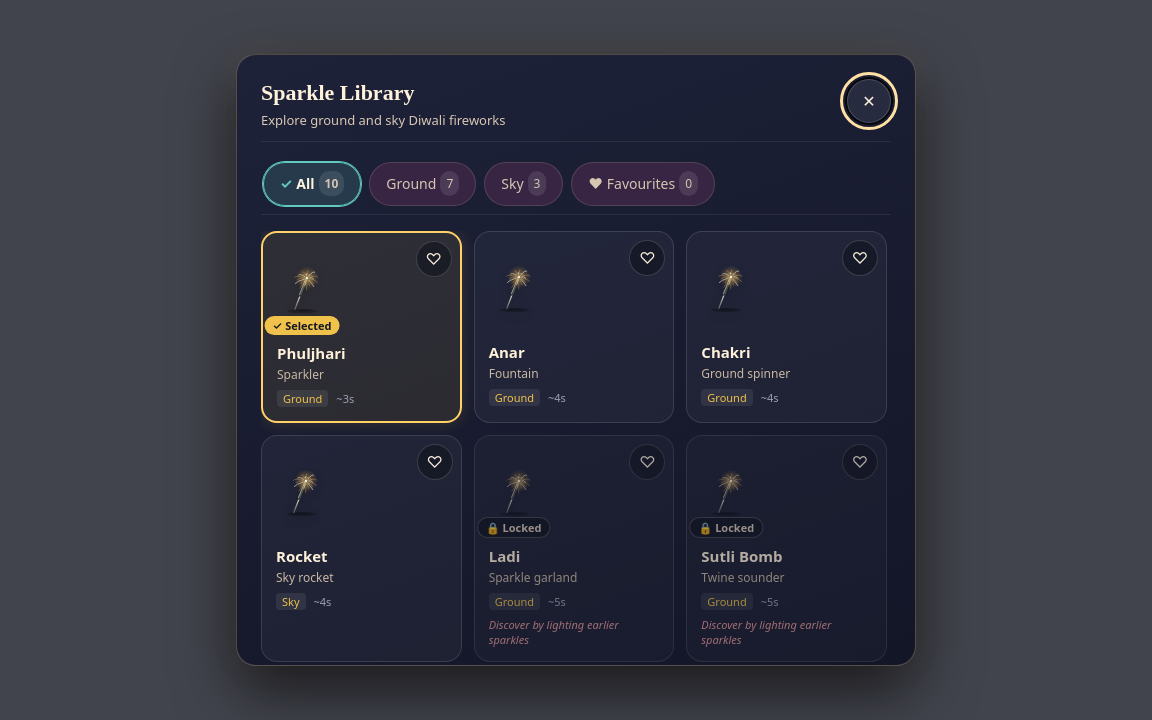
Scenario: DIW-010 — Create a browsable cracker library with filters and favourites › filters crackers by Ground and Sky categories accurately
Click Ground filter
Click the button "Ground 7" at (423, 184), box [369,162,476,206]
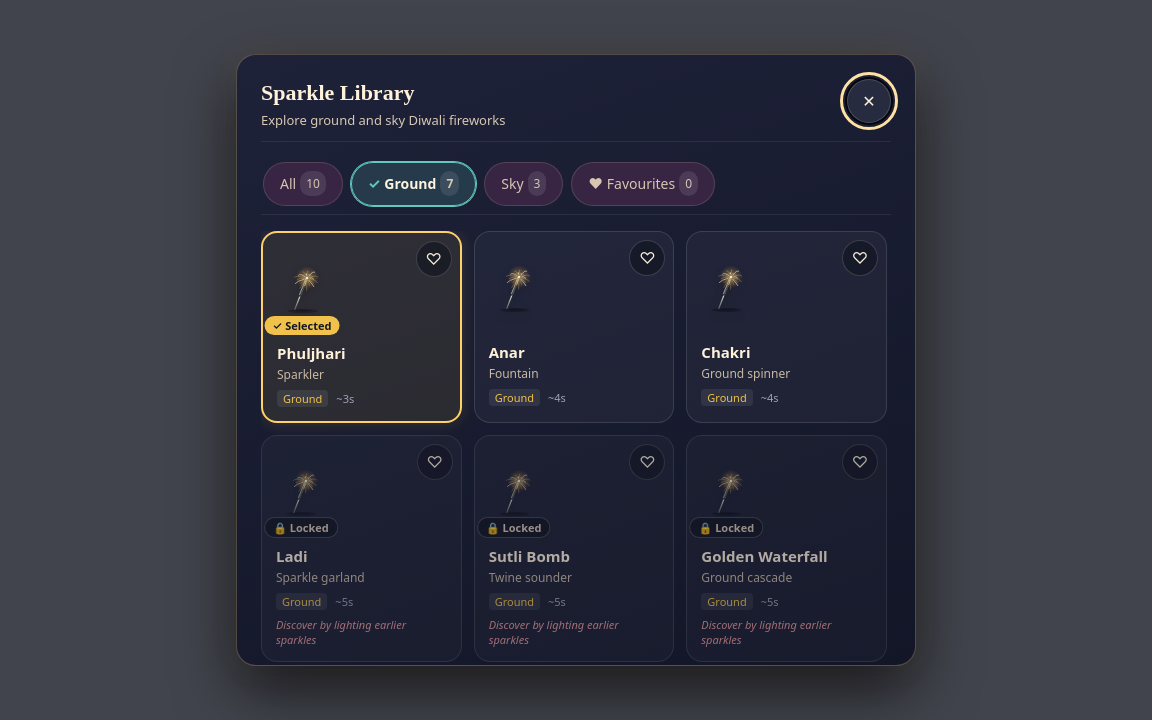
Expected: the text "Phuljhari" is shown, [277,343,354,363]
Expected: the button "Rocket" is gone
Click Sky filter
Click the button "Sky 3" at (524, 184), box [484,162,564,206]
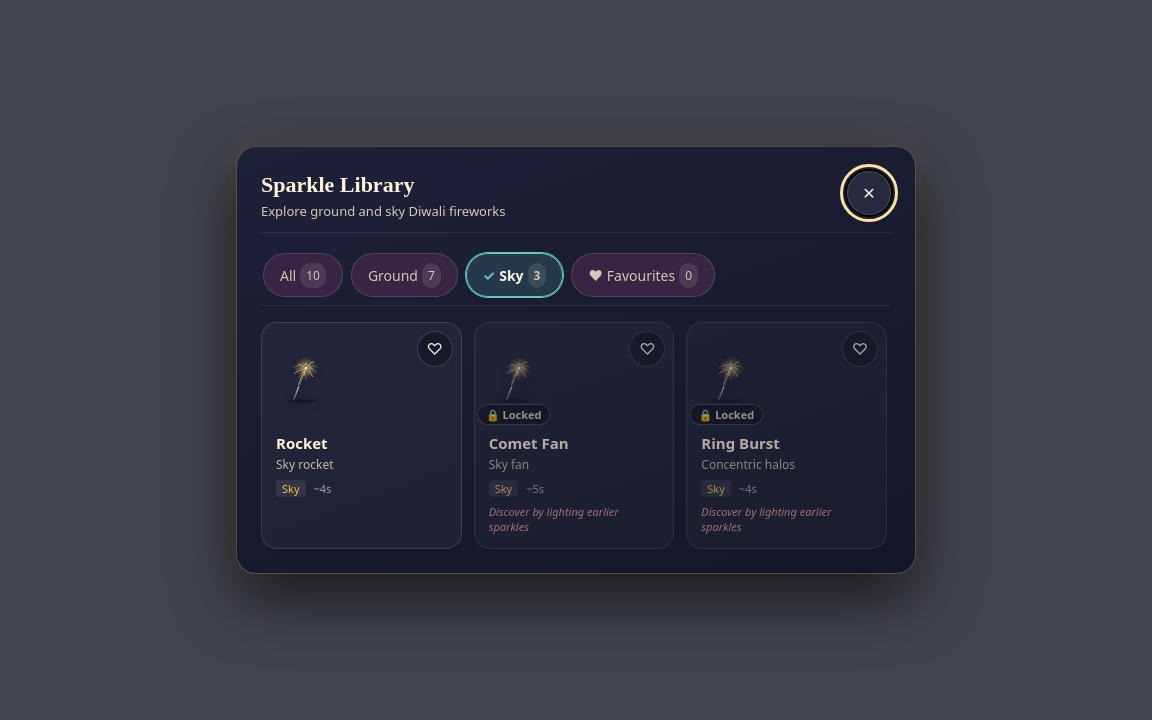
Expected: the number of list items is 3, [261,322,462,549]; [474,322,674,549]; [686,322,887,549]
Expected: the text "Rocket" is shown, [276,433,334,453]
Expected: the button "Phuljhari" is gone
